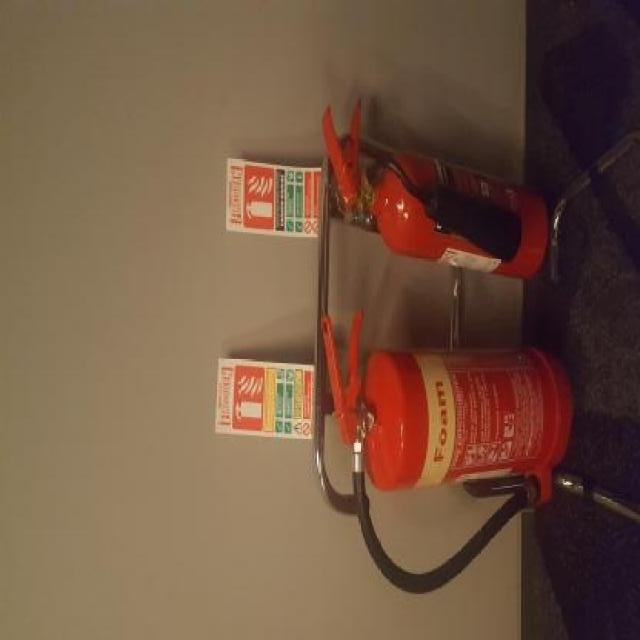fire extinguisher: (323, 309, 574, 597), (321, 93, 550, 282)
